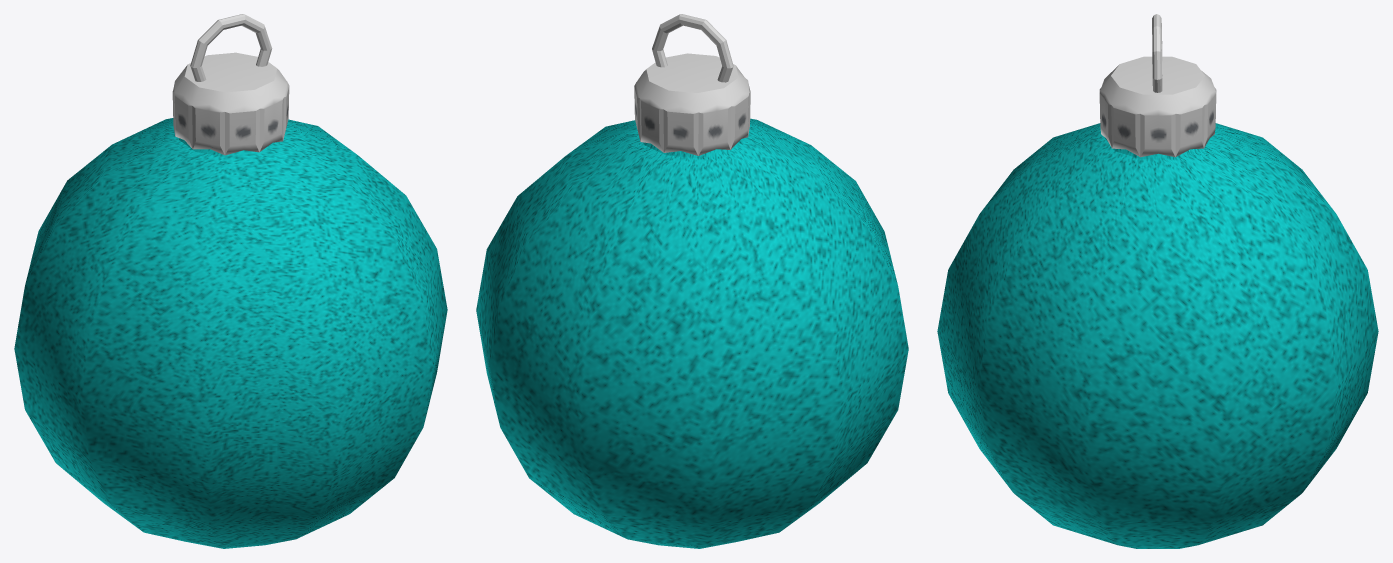
3 renders of one model, left to right at view 1: azimuth 30°, elevation 25°; view 2: azimuth 150°, elevation 25°; view 3: azimuth 270°, elevation 25°, orthographic.
Bounding box in the file's own units: 0.2611 × 0.3511 × 0.2745.
2 materials, 2 textured.
